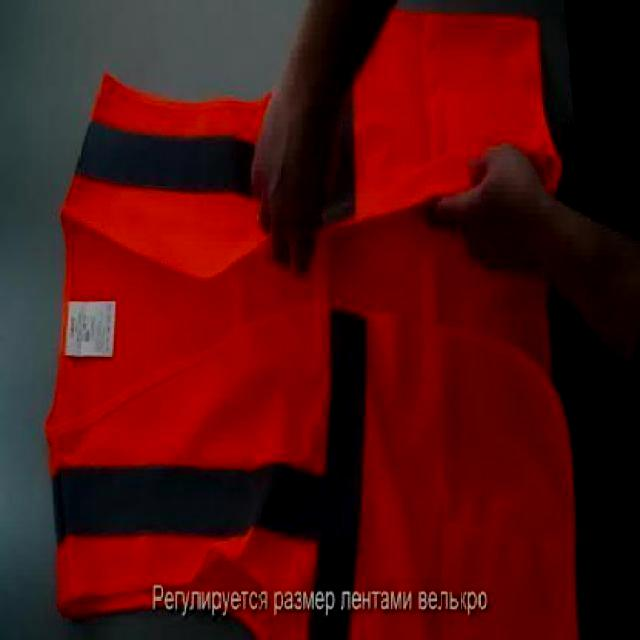Mask: (46, 0, 581, 638)
